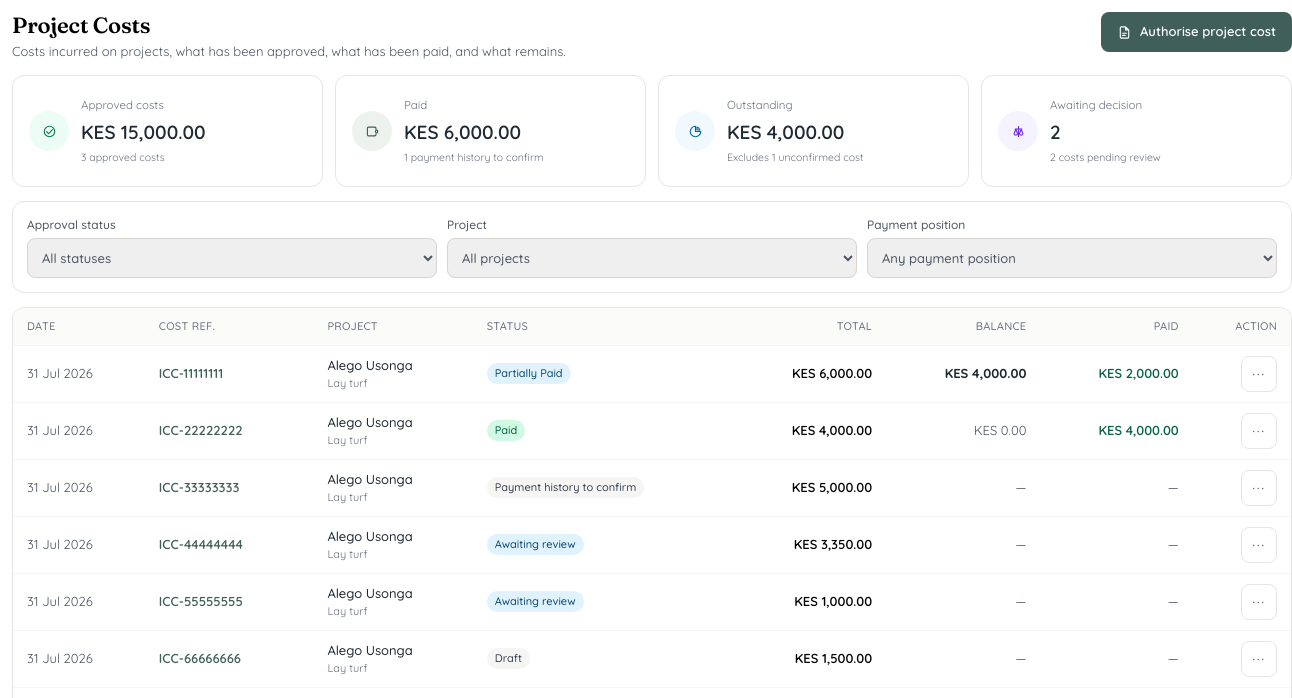
Scenario: Project Costs at-a-glance position › leaves the row action menu exactly as it was
Click the button named "Actions for ICC-11111111". click: (1259, 374)
box: x1=1241 y1=356 x2=1277 y2=392
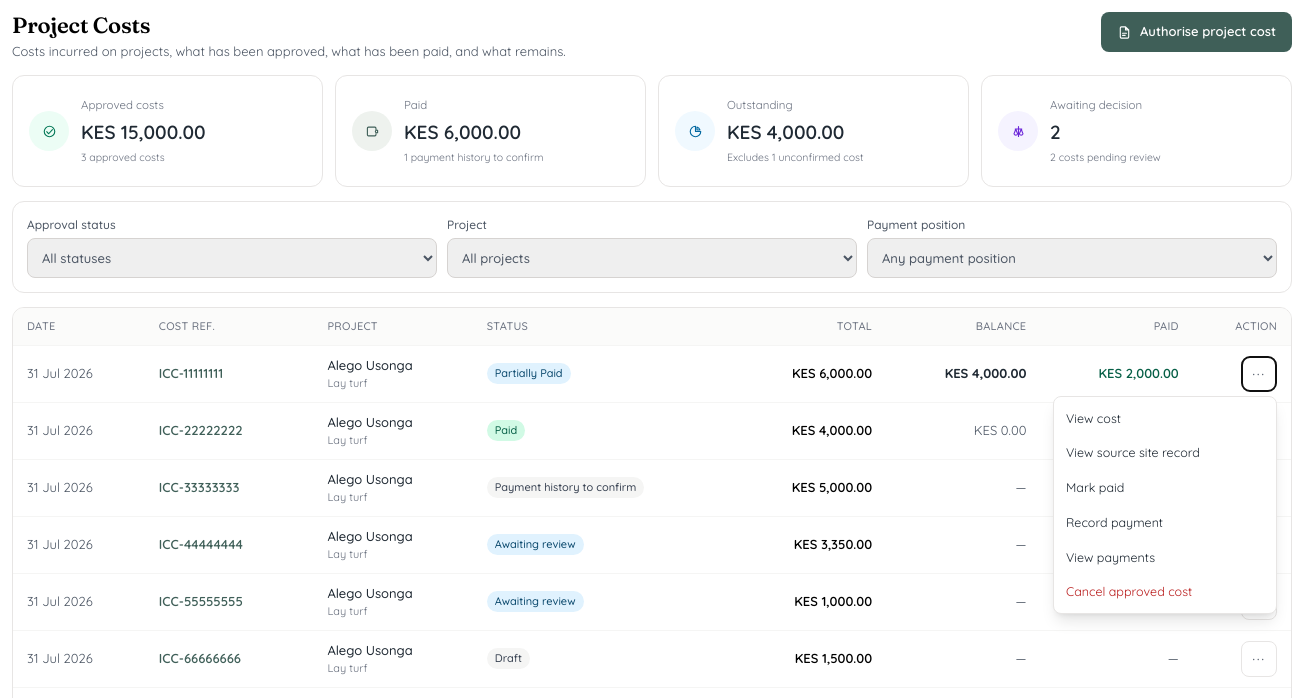
Now the menu item "View cost" is shown, box x1=1066 y1=410 x2=1121 y2=426
Now the menu item "Mark paid" is shown, box x1=1066 y1=479 x2=1124 y2=495
Now the menu item "Record payment" is shown, box x1=1066 y1=514 x2=1163 y2=530
